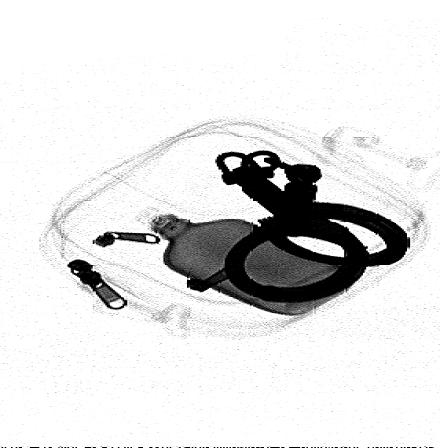HandCuffs: (214, 150, 411, 302)
